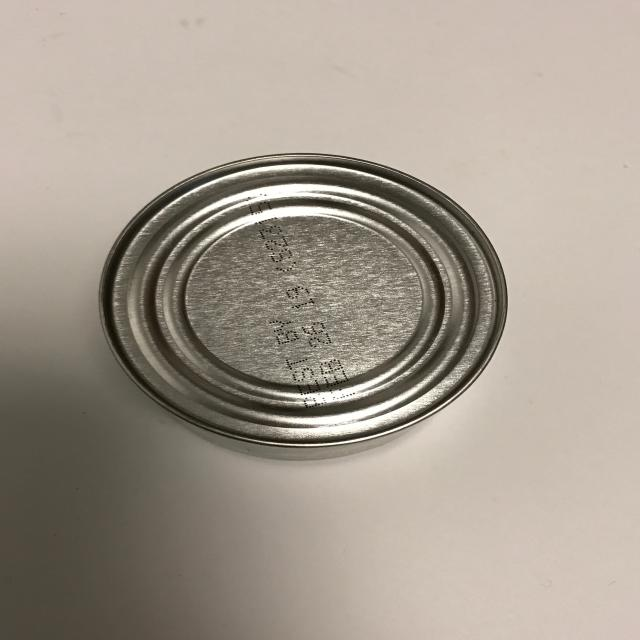metal: (98, 152, 508, 461)
